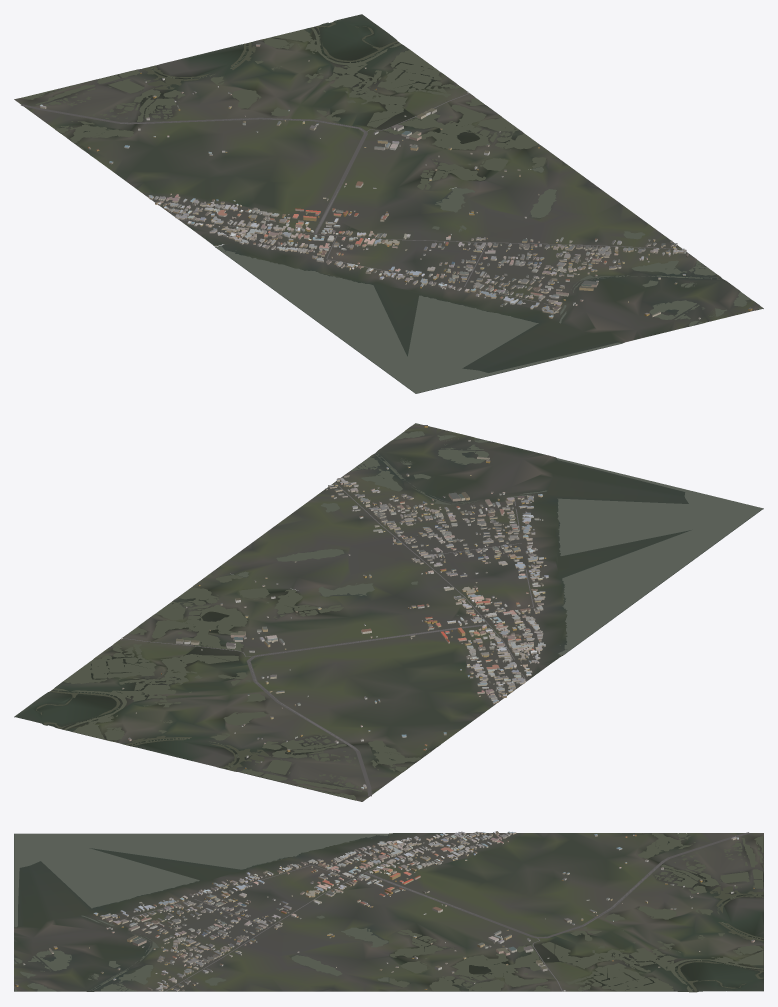
The picture shows the model from 3 angles, top to bottom: view 1: azimuth 30°, elevation 25°; view 2: azimuth 150°, elevation 25°; view 3: azimuth 270°, elevation 25°; orthographic projection. The views are drawn at different scales.
Parts seen in each view (by area): view 1: ground, water, buildings, roads; view 2: ground, water, buildings, roads; view 3: ground, water, buildings, roads.
Boxes of the visible parts, x1=… form: ground: x1=14, y1=14, x2=763, y2=393; water: x1=21, y1=22, x2=762, y2=393; buildings: x1=39, y1=44, x2=752, y2=319; roads: x1=21, y1=93, x2=681, y2=307; ground: x1=14, y1=424, x2=763, y2=801; water: x1=36, y1=423, x2=762, y2=800; buildings: x1=121, y1=425, x2=548, y2=789; roads: x1=123, y1=482, x2=533, y2=796; ground: x1=14, y1=833, x2=763, y2=992; water: x1=14, y1=833, x2=763, y2=991; buildings: x1=15, y1=831, x2=754, y2=991; roads: x1=110, y1=832, x2=749, y2=991.
Bounding box in the file's own units: 1411 × 17.1 × 2801.
